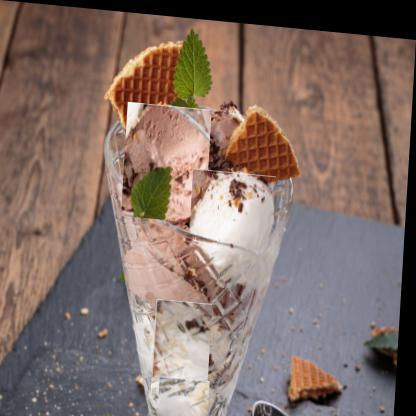icecream: (123, 99, 214, 221), (190, 164, 279, 282), (123, 218, 221, 322), (146, 304, 226, 387), (158, 374, 219, 415)
